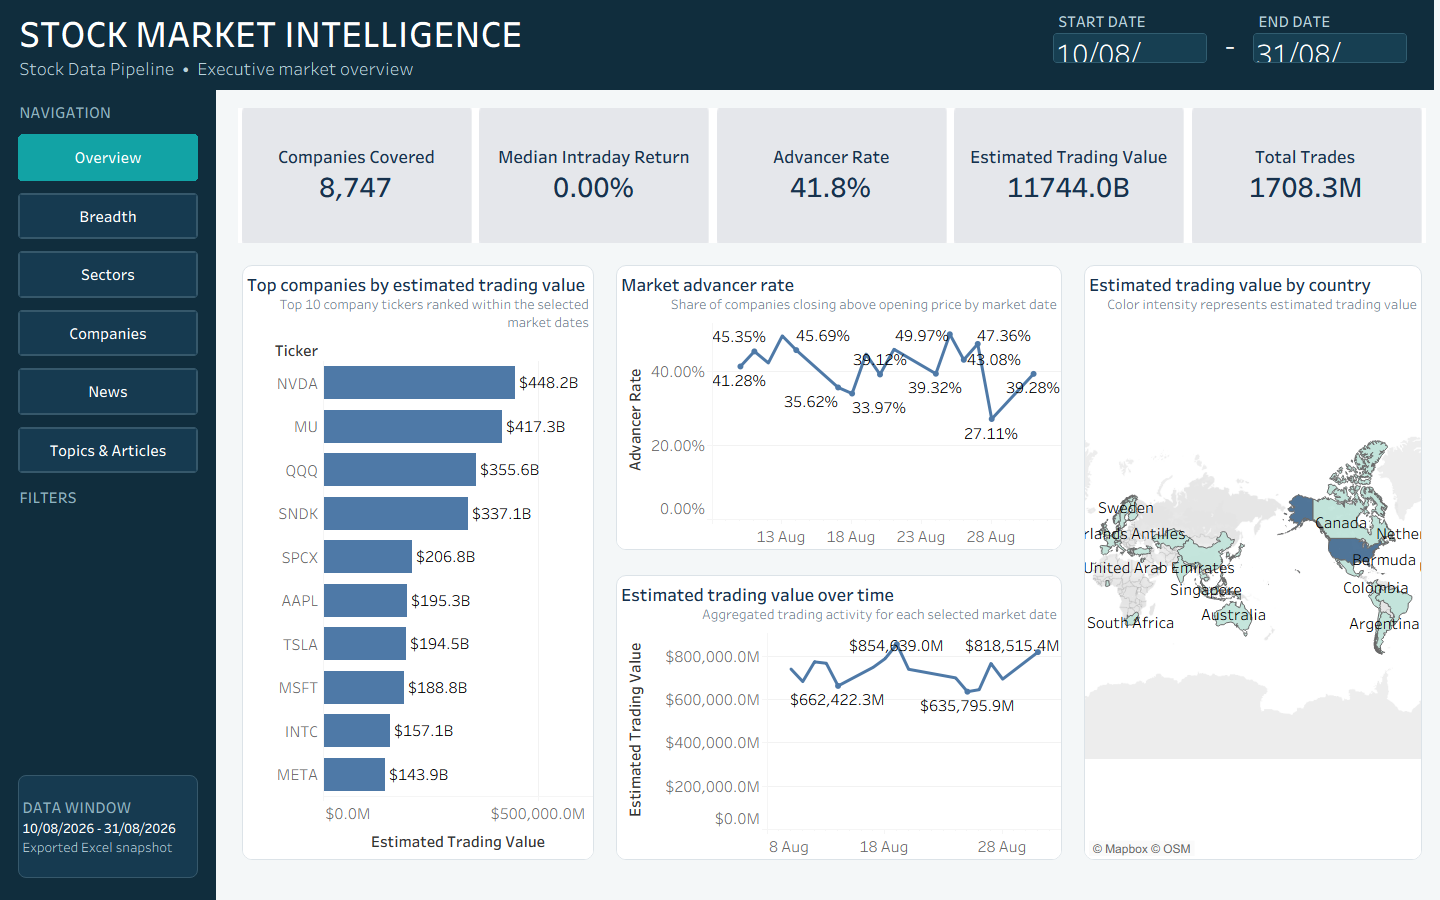

This screenshot's page, from the dashboard's own definition file:
{"tool":"tableau","page":{"name":"01. Market Overview","canvas":[1440,900],"ordinal":0},"visuals":[{"type":"blank","box":[0,0,1440,900]},{"type":"text","box":[0,0,1434,90]},{"type":"text","box":[1055,10,150,22]},{"type":"text","box":[1255,10,160,22]},{"type":"parameter","param":"[Parameters].[Parameter 1300762280890369]","box":[1050,30,160,36]},{"type":"text","box":[1176,30,108,28]},{"type":"parameter","param":"[Parameters].[Parameter 1300762280984578]","box":[1250,30,160,36]},{"type":"blank","box":[0,90,216,810]},{"type":"text","box":[14.4,99,187.2,27]},{"type":"worksheet","title":"01. Market Overview KPIs","mark":"Text","cols":["Calculation_KPIAxis1","Calculation_KPIAxis2","Calculation_KPIAxis3","Calculation_KPIAxis4","Calculation_KPIAxis5"],"box":[237.6,108,1188,135]},{"type":"dashboard-object","box":[14.4,130.5,187.2,54]},{"type":"dashboard-object","box":[14.4,189,187.2,54]},{"type":"dashboard-object","box":[14.4,247.5,187.2,54]},{"type":"worksheet","title":"Top Companies by Trading Value","mark":"Bar","rows":["ticker"],"cols":["Calculation_ApproxDollarVolume"],"box":[237.6,261,360,603]},{"type":"worksheet","title":"Market Advancer Rate Trend","mark":"Automatic","rows":["Calculation_AdvancerFlag"],"cols":["date"],"box":[612,261,453.6,292.5]},{"type":"worksheet","title":"Estimated Trading Value Map","mark":"Automatic","box":[1080,261,345.6,603]},{"type":"dashboard-object","box":[14.4,306,187.2,54]},{"type":"dashboard-object","box":[14.4,364.5,187.2,54]},{"type":"dashboard-object","box":[14.4,423,187.2,54]},{"type":"text","box":[14.4,486,187.2,22.5]},{"type":"worksheet","title":"Market Activity Trend","mark":"Line","rows":["Calculation_ApproxDollarVolume"],"cols":["date"],"box":[612,571.5,453.6,292.5]},{"type":"text","box":[14,771,188,111]},{"type":"text","box":[15,809,172,38]}]}

Visuals, with their boxes in screenshot pixels (x1, y1, x2, y2), scaled from the page's 1440x900 canvas onto the 1440x900 screenshot:
blank: (left=0, top=0, right=1439, bottom=899)
text: (left=0, top=0, right=1434, bottom=90)
text: (left=1055, top=10, right=1205, bottom=32)
text: (left=1255, top=10, right=1415, bottom=32)
parameter: (left=1050, top=30, right=1210, bottom=66)
text: (left=1176, top=30, right=1284, bottom=58)
parameter: (left=1250, top=30, right=1410, bottom=66)
blank: (left=0, top=90, right=216, bottom=899)
text: (left=14, top=99, right=202, bottom=126)
"01. Market Overview KPIs" worksheet (Text marks): (left=238, top=108, right=1426, bottom=243)
dashboard-object: (left=14, top=130, right=202, bottom=184)
dashboard-object: (left=14, top=189, right=202, bottom=243)
dashboard-object: (left=14, top=248, right=202, bottom=302)
"Top Companies by Trading Value" worksheet (Bar marks): (left=238, top=261, right=598, bottom=864)
"Market Advancer Rate Trend" worksheet: (left=612, top=261, right=1066, bottom=554)
"Estimated Trading Value Map" worksheet: (left=1080, top=261, right=1426, bottom=864)
dashboard-object: (left=14, top=306, right=202, bottom=360)
dashboard-object: (left=14, top=364, right=202, bottom=418)
dashboard-object: (left=14, top=423, right=202, bottom=477)
text: (left=14, top=486, right=202, bottom=508)
"Market Activity Trend" worksheet (Line marks): (left=612, top=572, right=1066, bottom=864)
text: (left=14, top=771, right=202, bottom=882)
text: (left=15, top=809, right=187, bottom=847)
